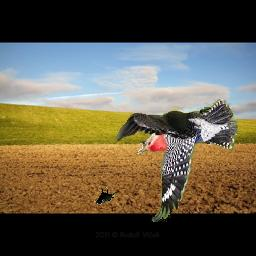Crow: (93, 188, 115, 205)
Woodpecker: (116, 100, 238, 223)
